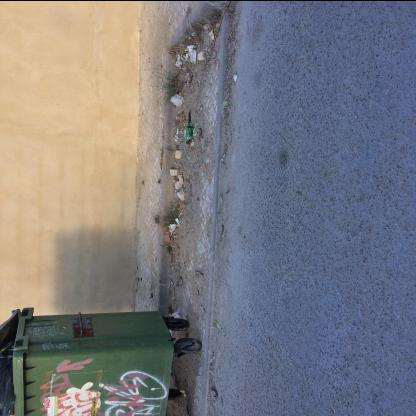plastik: (186, 126, 195, 144), (190, 49, 198, 65)
